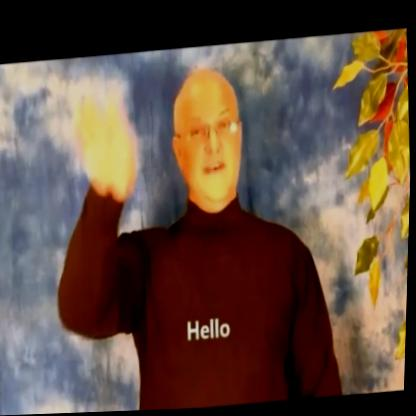Hello: (63, 49, 264, 274)
